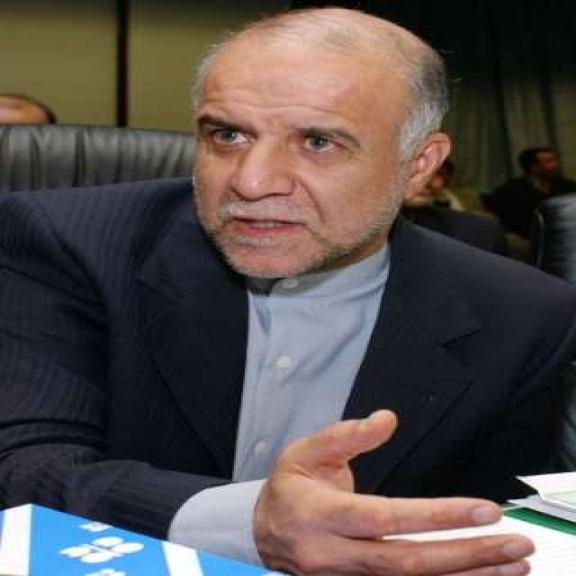face: (187, 44, 450, 273), (522, 144, 569, 178)
